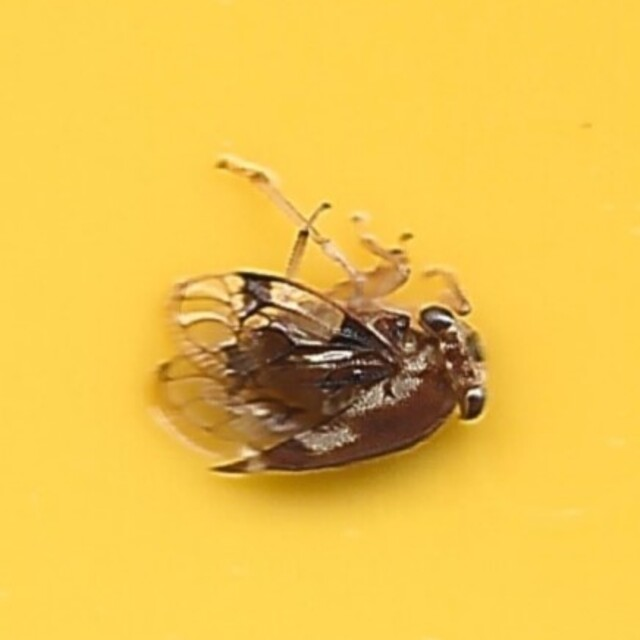Hemiptera: (147, 157, 493, 483)
